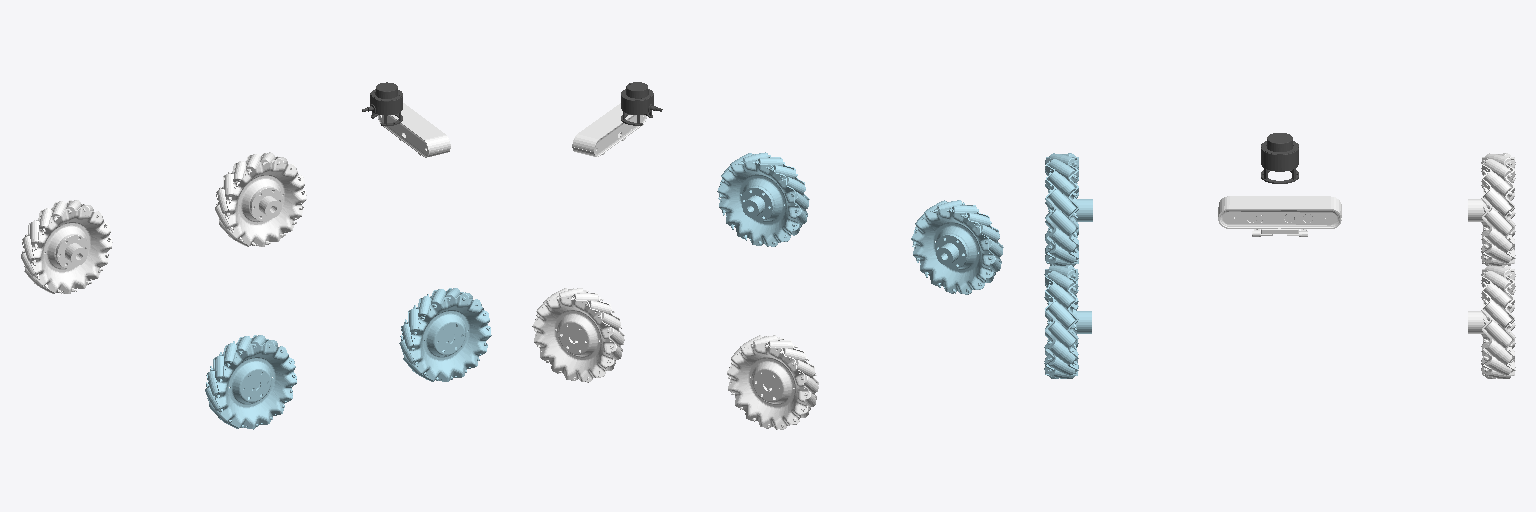
URDF robot description (flagship_mec_bs_robot):
<?xml version="1.0" encoding="utf-8"?>
<!-- This URDF was automatically created by SolidWorks to URDF Exporter! Originally created by [author] ([email redacted]) 
     Commit Version: 1.6.0-4-g7f85cfe  Build Version: 1.6.7995.38578
     For more information, please see http://wiki.ros.org/sw_urdf_exporter -->
<robot
  name="flagship_mec_bs_robot">
  <link
    name="base_link">
    <inertial>
      <origin
        xyz="0.00711629652434545 -0.00322188502370258 0.0164854811219013"
        rpy="0 0 0" />
      <mass
        value="5.76365762403607" />
      <inertia
        ixx="0.0600889108992141"
        ixy="3.87485100856728E-05"
        ixz="-1.84300048840965E-05"
        iyy="0.0471196307889214"
        iyz="-2.87955340141594E-06"
        izz="0.103264644876046" />
    </inertial>
    <visual>
      <origin
        xyz="0 0 0"
        rpy="0 0 0" />
      <geometry>
        <mesh
          filename="package://wheeltec_robot_urdf/meshes/flagship_mec_bs_robot_meshes/base_link.STL" />
      </geometry>
      <material
        name="">
        <color
          rgba="0.741176470588235 0.901960784313726 0.956862745098039 1" />
      </material>
    </visual>
    <collision>
      <origin
        xyz="0 0 0"
        rpy="0 0 0" />
      <geometry>
        <mesh
          filename="package://wheeltec_robot_urdf/meshes/flagship_mec_bs_robot_meshes/base_link.STL" />
      </geometry>
    </collision>
  </link>
  <link
    name="lf_wheel_link">
    <inertial>
      <origin
        xyz="1.31767780936487E-07 -0.00248009071711623 -1.69865789075019E-06"
        rpy="0 0 0" />
      <mass
        value="0.242468456480216" />
      <inertia
        ixx="0.000457067612620108"
        ixy="-2.37655732307157E-07"
        ixz="3.85301516879172E-09"
        iyy="0.000868087814770307"
        iyz="-1.59350892256097E-09"
        izz="0.000456505782058785" />
    </inertial>
    <visual>
      <origin
        xyz="0 0 0"
        rpy="0 0 0" />
      <geometry>
        <mesh
          filename="package://wheeltec_robot_urdf/meshes/flagship_mec_bs_robot_meshes/lf_wheel_link.STL" />
      </geometry>
      <material
        name="">
        <color
          rgba="1 1 1 1" />
      </material>
    </visual>
    <collision>
      <origin
        xyz="0 0 0"
        rpy="0 0 0" />
      <geometry>
        <mesh
          filename="package://wheeltec_robot_urdf/meshes/flagship_mec_bs_robot_meshes/lf_wheel_link.STL" />
      </geometry>
    </collision>
  </link>
  <joint
    name="lf_wheel_joint"
    type="continuous">
    <origin
      xyz="0.185693160645845 0.291475641802976 -0.037493999999996"
      rpy="0 0 0" />
    <parent
      link="base_link" />
    <child
      link="lf_wheel_link" />
    <axis
      xyz="0 1 0" />
  </joint>
  <link
    name="lb_wheel_link">
    <inertial>
      <origin
        xyz="1.31767767641566E-07 -0.00248009071710622 -1.69865775480338E-06"
        rpy="0 0 0" />
      <mass
        value="0.24246845648113" />
      <inertia
        ixx="0.000457067612621628"
        ixy="-2.37655732773179E-07"
        ixz="3.85301527571913E-09"
        iyy="0.00086808781477231"
        iyz="-1.59350893040512E-09"
        izz="0.00045650578205984" />
    </inertial>
    <visual>
      <origin
        xyz="0 0 0"
        rpy="0 0 0" />
      <geometry>
        <mesh
          filename="package://wheeltec_robot_urdf/meshes/flagship_mec_bs_robot_meshes/lb_wheel_link.STL" />
      </geometry>
      <material
        name="">
        <color
          rgba="1 1 1 1" />
      </material>
    </visual>
    <collision>
      <origin
        xyz="0 0 0"
        rpy="0 0 0" />
      <geometry>
        <mesh
          filename="package://wheeltec_robot_urdf/meshes/flagship_mec_bs_robot_meshes/lb_wheel_link.STL" />
      </geometry>
    </collision>
  </link>
  <joint
    name="lb_wheel_joint"
    type="continuous">
    <origin
      xyz="-0.168006839354155 0.291475641802975 -0.037493999999996"
      rpy="0 0 0" />
    <parent
      link="base_link" />
    <child
      link="lb_wheel_link" />
    <axis
      xyz="0 1 0" />
  </joint>
  <link
    name="rb_wheel_link">
    <inertial>
      <origin
        xyz="-1.31767769306901E-07 0.00248009071710664 -1.69865775746791E-06"
        rpy="0 0 0" />
      <mass
        value="0.242468456481127" />
      <inertia
        ixx="0.000457067612621629"
        ixy="-2.37655732772187E-07"
        ixz="-3.85301527540644E-09"
        iyy="0.000868087814772308"
        iyz="1.59350893244824E-09"
        izz="0.000456505782059837" />
    </inertial>
    <visual>
      <origin
        xyz="0 0 0"
        rpy="0 0 0" />
      <geometry>
        <mesh
          filename="package://wheeltec_robot_urdf/meshes/flagship_mec_bs_robot_meshes/rb_wheel_link.STL" />
      </geometry>
      <material
        name="">
        <color
          rgba="0.741176470588235 0.901960784313726 0.956862745098039 1" />
      </material>
    </visual>
    <collision>
      <origin
        xyz="0 0 0"
        rpy="0 0 0" />
      <geometry>
        <mesh
          filename="package://wheeltec_robot_urdf/meshes/flagship_mec_bs_robot_meshes/rb_wheel_link.STL" />
      </geometry>
    </collision>
  </link>
  <joint
    name="rb_wheel_joint"
    type="continuous">
    <origin
      xyz="-0.168006839354153 -0.290440358197025 -0.037493999999994"
      rpy="0 0 0" />
    <parent
      link="base_link" />
    <child
      link="rb_wheel_link" />
    <axis
      xyz="0 -1 0" />
  </joint>
  <link
    name="rf_wheel_link">
    <inertial>
      <origin
        xyz="-1.31767768529745E-07 0.00248009071710642 -1.69865775660749E-06"
        rpy="0 0 0" />
      <mass
        value="0.242468456481129" />
      <inertia
        ixx="0.000457067612621626"
        ixy="-2.37655732773136E-07"
        ixz="-3.85301527388279E-09"
        iyy="0.000868087814772302"
        iyz="1.59350892876556E-09"
        izz="0.000456505782059834" />
    </inertial>
    <visual>
      <origin
        xyz="0 0 0"
        rpy="0 0 0" />
      <geometry>
        <mesh
          filename="package://wheeltec_robot_urdf/meshes/flagship_mec_bs_robot_meshes/rf_wheel_link.STL" />
      </geometry>
      <material
        name="">
        <color
          rgba="0.741176470588235 0.901960784313726 0.956862745098039 1" />
      </material>
    </visual>
    <collision>
      <origin
        xyz="0 0 0"
        rpy="0 0 0" />
      <geometry>
        <mesh
          filename="package://wheeltec_robot_urdf/meshes/flagship_mec_bs_robot_meshes/rf_wheel_link.STL" />
      </geometry>
    </collision>
  </link>
  <joint
    name="rf_wheel_joint"
    type="continuous">
    <origin
      xyz="0.185693160645847 -0.291440358197024 -0.037493999999994"
      rpy="0 0 0" />
    <parent
      link="base_link" />
    <child
      link="rf_wheel_link" />
    <axis
      xyz="0 -1 0" />
  </joint>
  <link
    name="camera_link">
    <inertial>
      <origin
        xyz="-1.4947234060203E-07 1.57376155773825E-07 -3.19615127988837E-07"
        rpy="0 0 0" />
      <mass
        value="0.0559842529202771" />
      <inertia
        ixx="0.000130802200744622"
        ixy="-9.9661745303399E-07"
        ixz="1.62299342697035E-06"
        iyy="1.9123626272978E-05"
        iyz="-4.42334063841986E-08"
        izz="0.000131387473459422" />
    </inertial>
    <visual>
      <origin
        xyz="0 0 0"
        rpy="0 0 0" />
      <geometry>
        <mesh
          filename="package://wheeltec_robot_urdf/meshes/flagship_mec_bs_robot_meshes/camera_link.STL" />
      </geometry>
      <material
        name="">
        <color
          rgba="1 1 1 1" />
      </material>
    </visual>
    <collision>
      <origin
        xyz="0 0 0"
        rpy="0 0 0" />
      <geometry>
        <mesh
          filename="package://wheeltec_robot_urdf/meshes/flagship_mec_bs_robot_meshes/camera_link.STL" />
      </geometry>
    </collision>
  </link>
  <joint
    name="camera_joint"
    type="fixed">
    <origin
      xyz="0.298787160645846 0.000240641802977198 0.172196000000005"
      rpy="0 0 0" />
    <parent
      link="base_link" />
    <child
      link="camera_link" />
    <axis
      xyz="0 0 0" />
  </joint>
  <link
    name="laser_link">
    <inertial>
      <origin
        xyz="-0.00207956288634139 -9.87028646648458E-07 -0.0264472435671745"
        rpy="0 0 0" />
      <mass
        value="0.00426368606026273" />
      <inertia
        ixx="1.45373992961576E-06"
        ixy="2.48436941244439E-14"
        ixz="-8.86181044864495E-08"
        iyy="1.1764772028955E-06"
        iyz="-2.28919961124084E-15"
        izz="2.0383666687487E-06" />
    </inertial>
    <visual>
      <origin
        xyz="0 0 0"
        rpy="0 0 0" />
      <geometry>
        <mesh
          filename="package://wheeltec_robot_urdf/meshes/flagship_mec_bs_robot_meshes/laser.STL" />
      </geometry>
      <material
        name="">
        <color
          rgba="0.376470588235294 0.376470588235294 0.376470588235294 1" />
      </material>
    </visual>
    <collision>
      <origin
        xyz="0 0 0"
        rpy="0 0 0" />
      <geometry>
        <mesh
          filename="package://wheeltec_robot_urdf/meshes/flagship_mec_bs_robot_meshes/laser.STL" />
      </geometry>
    </collision>
  </link>
  <joint
    name="laser_joint"
    type="fixed">
    <origin
      xyz="0.246992160645846 1.66418029772797E-05 0.244656000000005"
      rpy="0 0 -3.14159265358979" />
    <parent
      link="base_link" />
    <child
      link="laser_link" />
    <axis
      xyz="0 0 0" />
  </joint>
  <link
    name="controller_link">
    <inertial>
      <origin
        xyz="-0.0497103400547848 0.017513393269055 0.00856001464881975"
        rpy="0 0 0" />
      <mass
        value="0.0010792195411469" />
      <inertia
        ixx="1.16330109995672E-08"
        ixy="-3.9409266251513E-09"
        ixz="3.69212982720481E-10"
        iyy="2.26830021861923E-07"
        iyz="5.23015112085348E-10"
        izz="2.25657044103424E-07" />
    </inertial>
    <visual>
      <origin
        xyz="0 0 0"
        rpy="0 0 0" />
      <geometry>
        <mesh
          filename="package://wheeltec_robot_urdf/meshes/flagship_mec_bs_robot_meshes/controller_link.STL" />
      </geometry>
      <material
        name="">
        <color
          rgba="0.741176470588235 0.901960784313726 0.956862745098039 1" />
      </material>
    </visual>
    <collision>
      <origin
        xyz="0 0 0"
        rpy="0 0 0" />
      <geometry>
        <mesh
          filename="package://wheeltec_robot_urdf/meshes/flagship_mec_bs_robot_meshes/controller_link.STL" />
      </geometry>
    </collision>
  </link>
  <joint
    name="controller_joint"
    type="fixed">
    <origin
      xyz="0.101379911991688 0.0620176418028518 0.00150000000000057"
      rpy="0 0 0" />
    <parent
      link="base_link" />
    <child
      link="controller_link" />
    <axis
      xyz="0 0 0" />
  </joint>
</robot>

--- Facts derived from the render (not from the file) ---
3 views of the same robot in one strip: view 1: azimuth 30°, elevation 25°; view 2: azimuth 150°, elevation 25°; view 3: azimuth 270°, elevation 25° (orthographic).
Robot: flagship_mec_bs_robot — 8 links, 7 joints (4 continuous, 3 fixed); root link base_link; default pose: every joint at zero.
Links seen in each view (by area): view 1: rb_wheel_link, rf_wheel_link, lf_wheel_link, lb_wheel_link, camera_link, laser_link; view 2: lf_wheel_link, lb_wheel_link, rf_wheel_link, rb_wheel_link, camera_link, laser_link; view 3: camera_link, lf_wheel_link, rb_wheel_link, rf_wheel_link, lb_wheel_link, laser_link.
Link boxes in pixels (bbox=[...]): rb_wheel_link: bbox=[205, 335, 296, 429]; rf_wheel_link: bbox=[399, 288, 491, 381]; lf_wheel_link: bbox=[215, 152, 306, 246]; lb_wheel_link: bbox=[21, 200, 112, 293]; camera_link: bbox=[378, 103, 450, 157]; laser_link: bbox=[362, 82, 402, 125]; lf_wheel_link: bbox=[532, 288, 624, 382]; lb_wheel_link: bbox=[727, 335, 818, 429]; rf_wheel_link: bbox=[717, 152, 809, 246]; rb_wheel_link: bbox=[911, 200, 1003, 294]; camera_link: bbox=[572, 103, 646, 156]; laser_link: bbox=[621, 82, 662, 125]; camera_link: bbox=[1218, 196, 1341, 236]; lf_wheel_link: bbox=[1468, 265, 1515, 378]; rb_wheel_link: bbox=[1045, 153, 1092, 266]; rf_wheel_link: bbox=[1044, 265, 1091, 378]; lb_wheel_link: bbox=[1468, 153, 1515, 265]; laser_link: bbox=[1261, 133, 1298, 183].
Bounding box of the posed robot: 0.5617 × 0.6289 × 0.3761 m (x, y, z).
6 mesh visuals loaded from 8 distinct referenced files (6 binary STL); not drawn: 2 (reference not matched to a file when rendering).